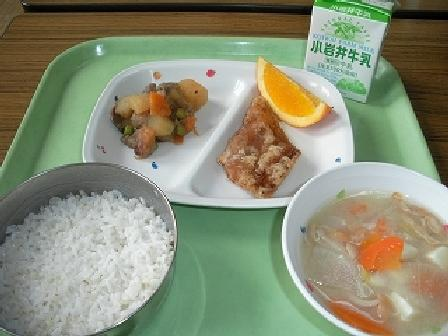Citrus: (255, 45, 320, 137)
Milk: (306, 0, 395, 85)
Rice: (0, 163, 177, 330)
Soups: (290, 174, 445, 335)
fried fish: (210, 92, 294, 201)
vegetable based cooked food: (105, 72, 209, 158)
